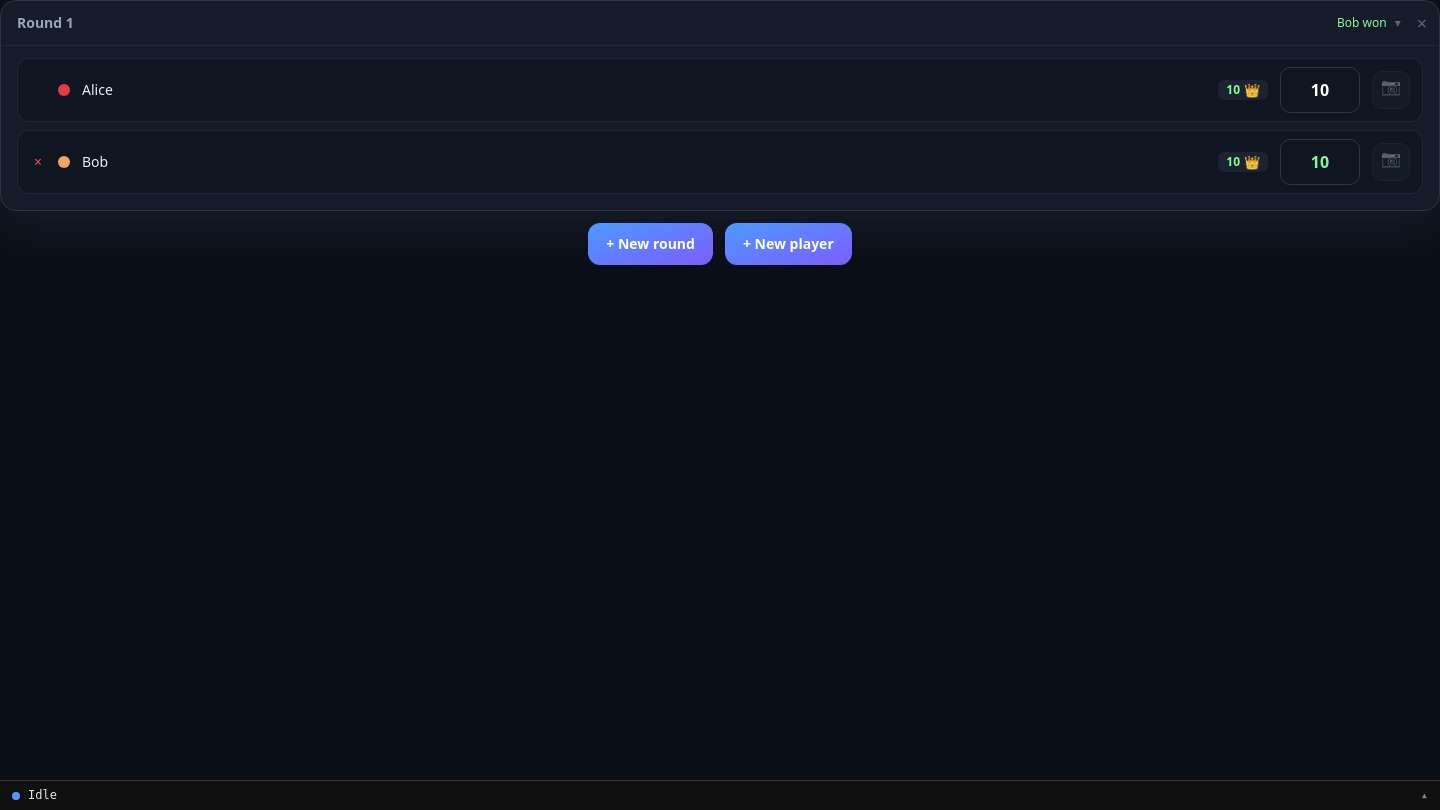
Test case: adds a player from the modal
This screenshot has width=1440, height=810.
Click the button "+ New player" at [788, 244], box [725,223,852,265]
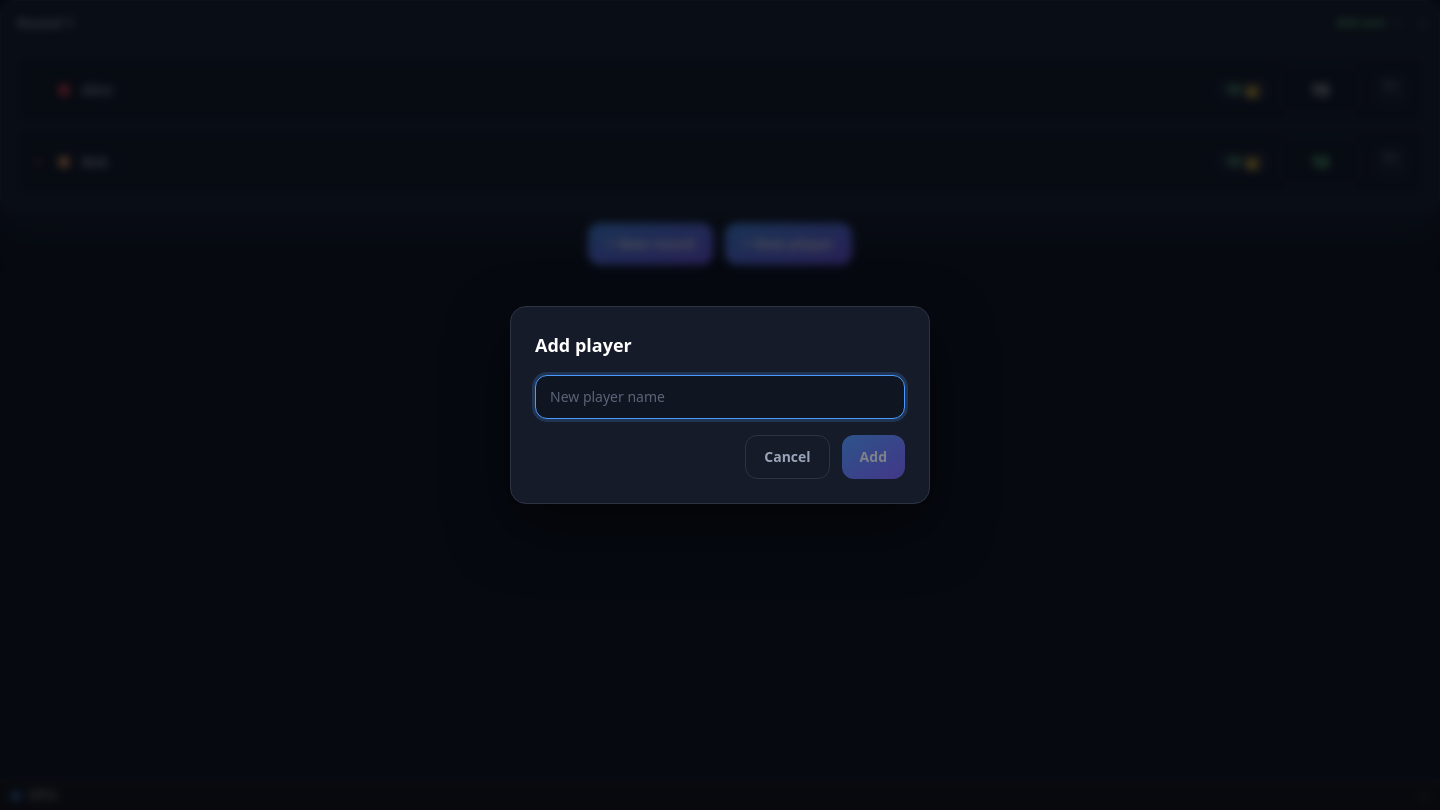
Type "  Carol  " into the field labelled "New player name" at [720, 397], box [535,375,905,419]
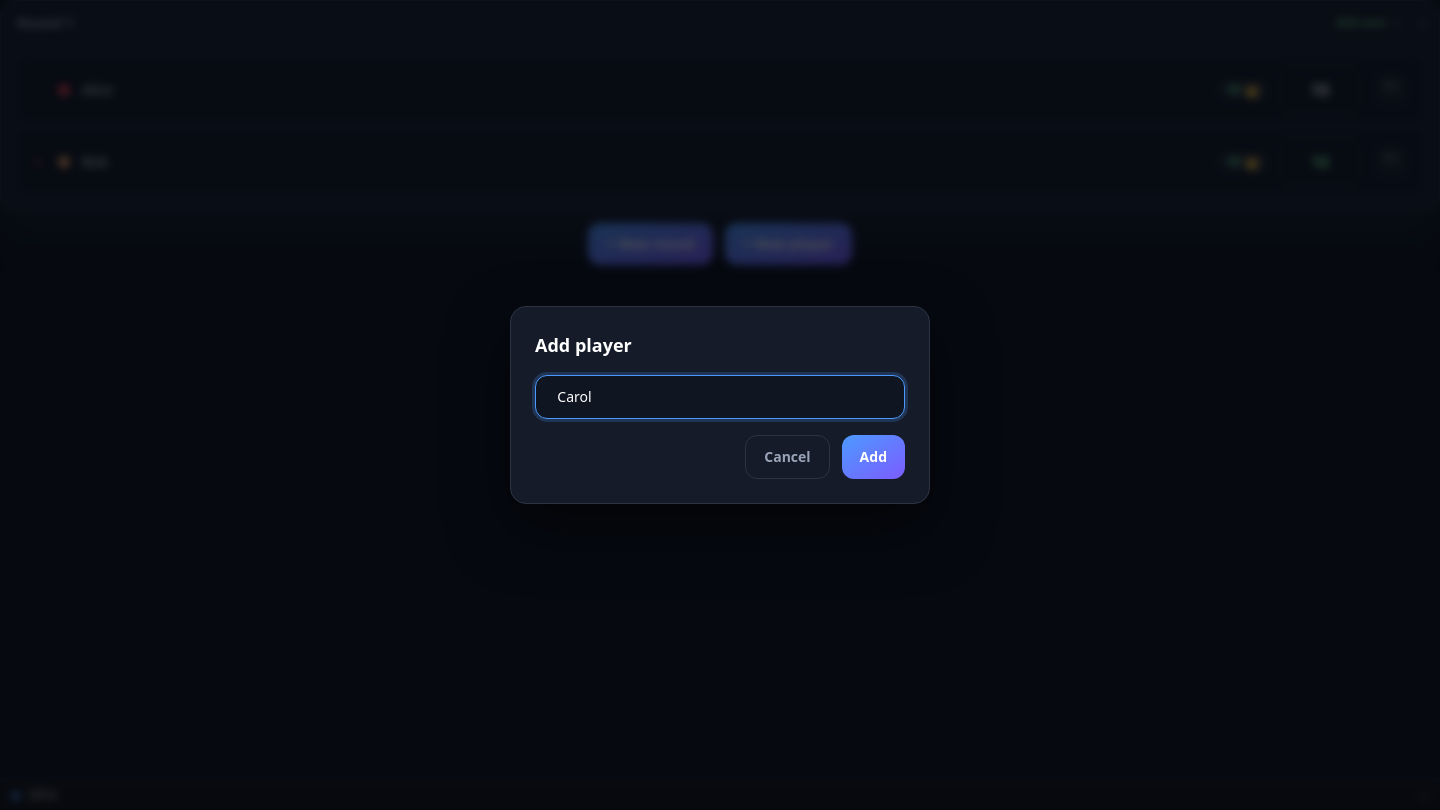
Click the button "Add" at [873, 457], box [842,435,905,479]
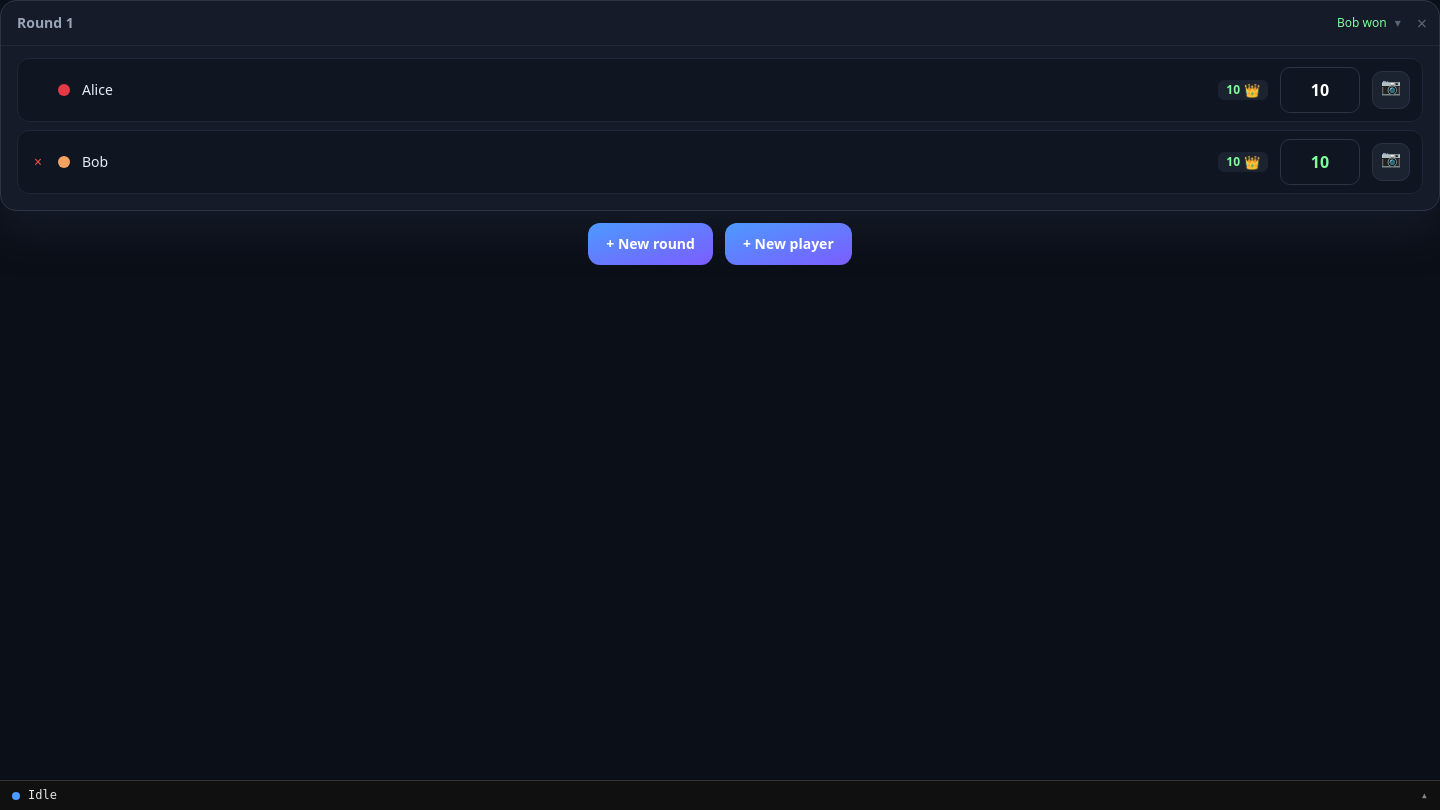
expect the dialog is gone: met
